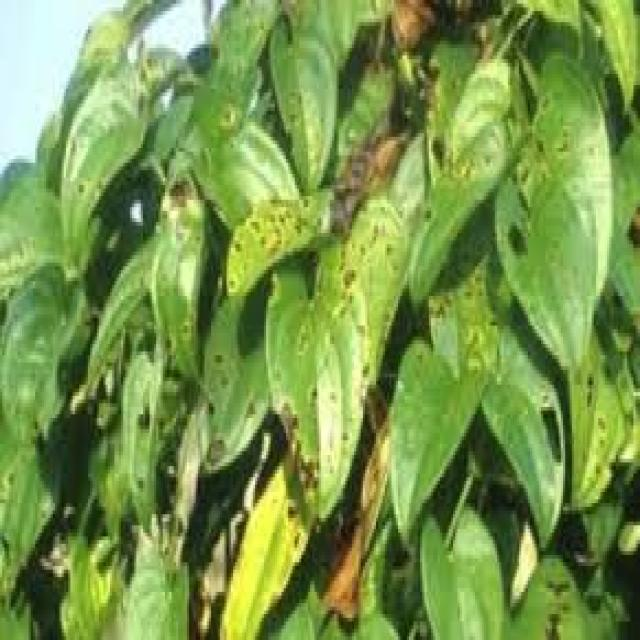leaf_spot: (424, 64, 625, 503), (208, 142, 418, 529), (58, 132, 217, 556)
